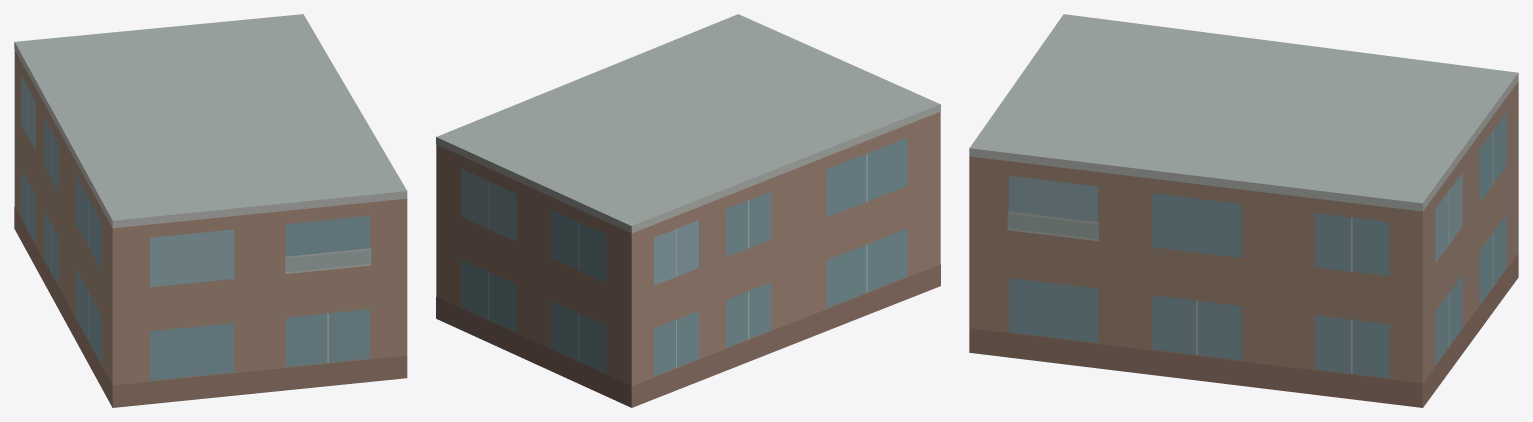
File: survey-upis-32953197.glb
The picture shows the model from 3 angles, left to right: view 1: azimuth 30°, elevation 25°; view 2: azimuth 150°, elevation 25°; view 3: azimuth 270°, elevation 25°; orthographic projection. The views are drawn at different scales.
Visible parts, largest first — view 1: survey-upis-32953197.tmp; view 2: survey-upis-32953197.tmp; view 3: survey-upis-32953197.tmp.
Part boxes in pixels (box(x1,y1,x2,y2)): survey-upis-32953197.tmp: box(14, 14, 407, 407); survey-upis-32953197.tmp: box(436, 14, 940, 407); survey-upis-32953197.tmp: box(969, 14, 1518, 407).
Size of the model in its own units: 12.13 by 6.1 by 14.86.
